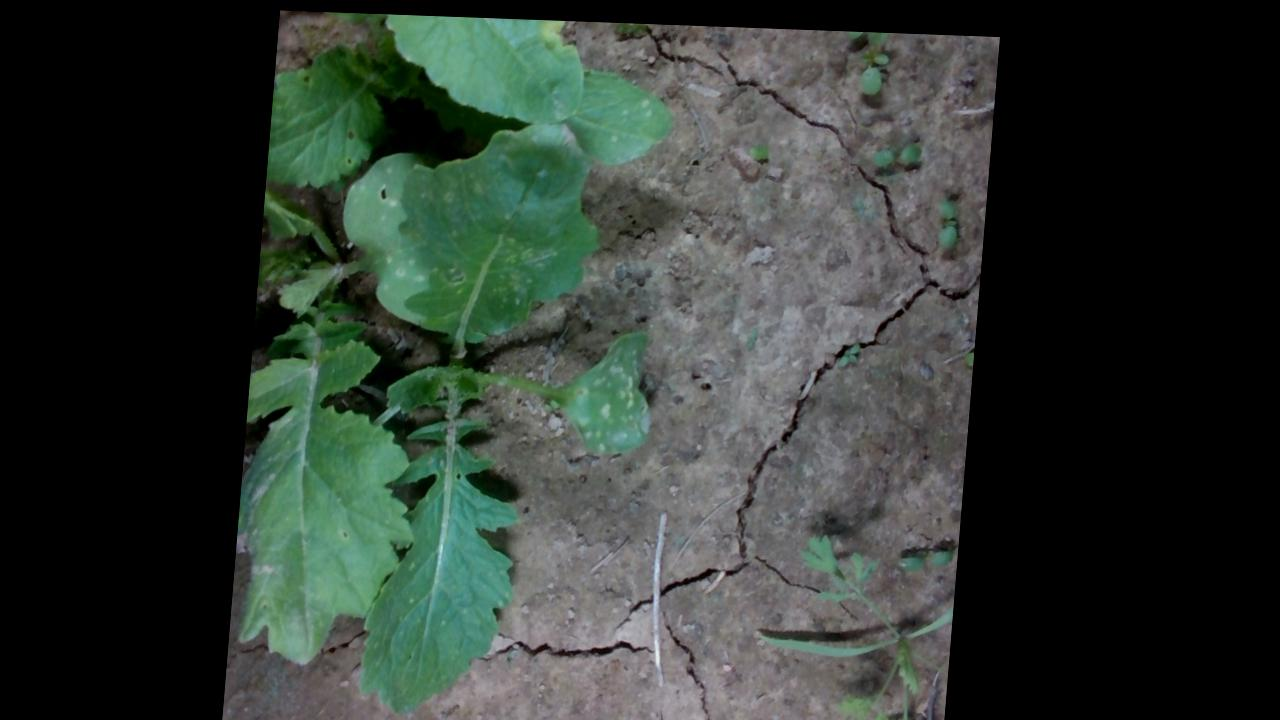weed: (931, 193, 962, 248), (870, 134, 924, 163)
